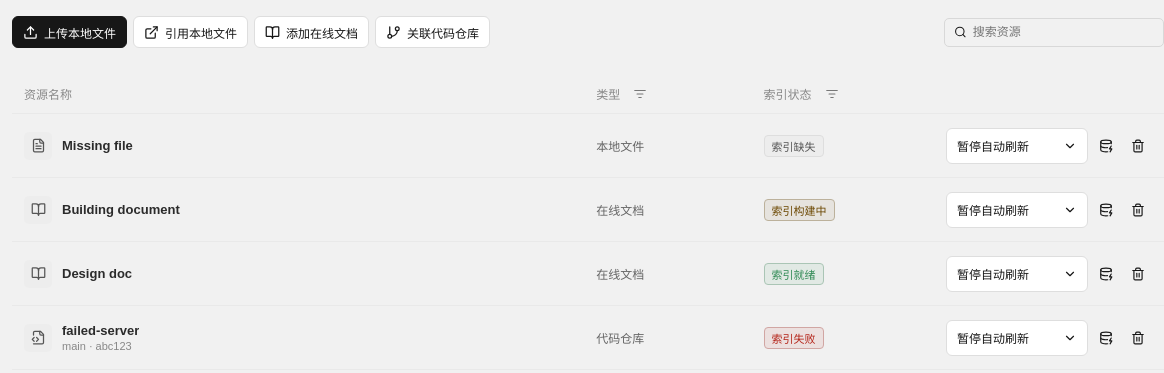
Test case: SpaceKnowledgePanel › filters resource rows by the index status selector in the table header
Step 1. Click the button named "按索引状态筛选资源" → [832, 94], box [820,82,844,106]
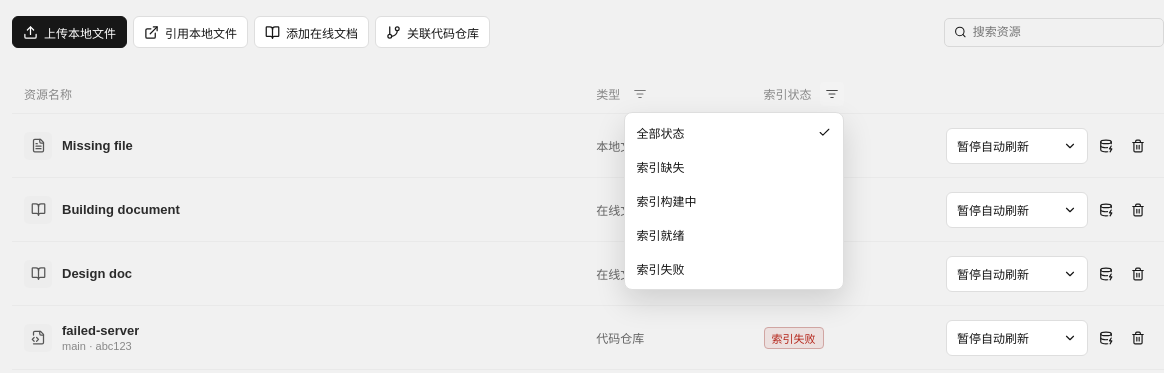
Step 2. Click the menu item "索引失败" → [734, 268], box [629,252,839,284]
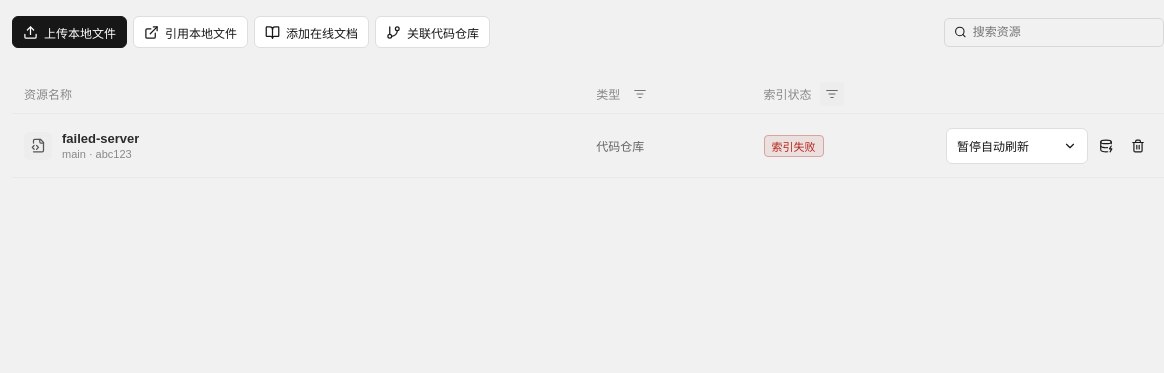
Result: the button "Missing file" is gone
Result: the button "Building document" is gone
Result: the button "Design doc" is gone
